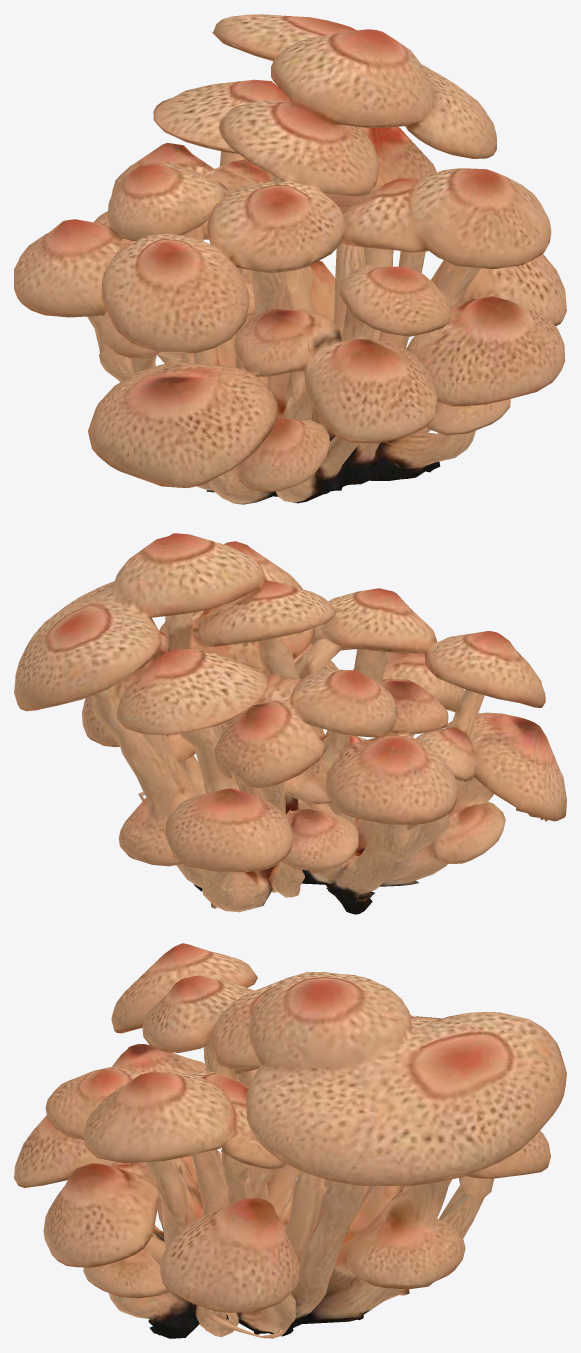
The model's file is prop-mushrooms.glb.
The picture shows the model from 3 angles, top to bottom: view 1: azimuth 30°, elevation 25°; view 2: azimuth 150°, elevation 25°; view 3: azimuth 270°, elevation 25°; orthographic projection. The views are drawn at different scales.
Bounding box in the file's own units: 1.9 × 1.38 × 1.91.
Materials: 1 (1 with a texture image).
